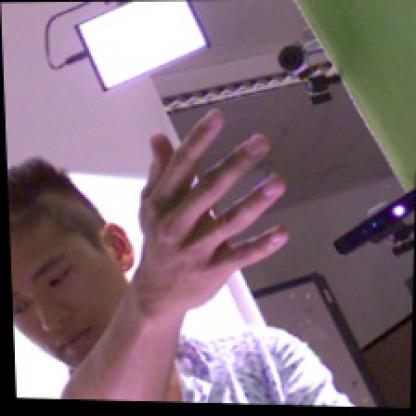Hand: (137, 110, 290, 312)
